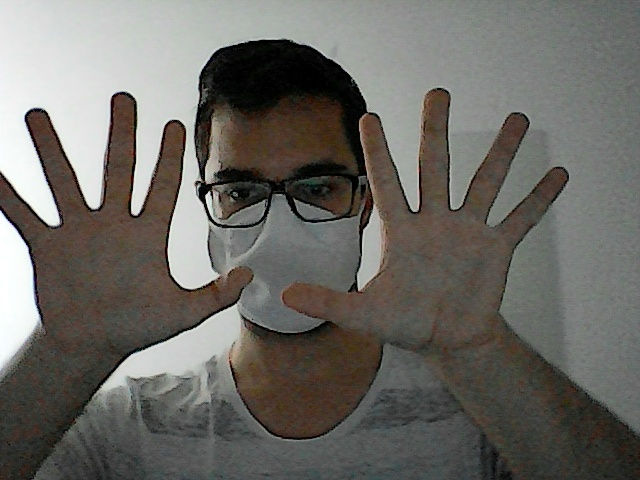jump: (275, 83, 576, 356), (1, 84, 257, 358)
